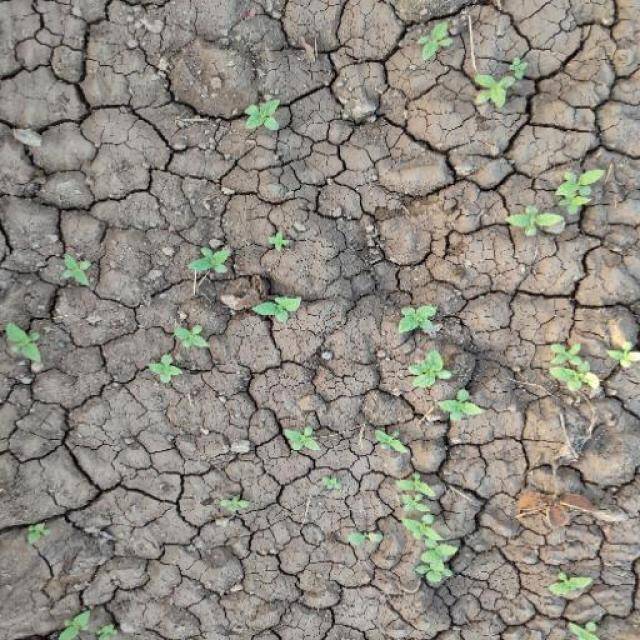crop: (2, 254, 96, 381), (390, 303, 484, 425), (191, 235, 315, 321), (412, 25, 532, 109), (390, 478, 478, 576), (502, 162, 598, 238), (545, 334, 640, 400), (138, 321, 214, 399), (244, 88, 285, 142), (278, 422, 328, 457)
